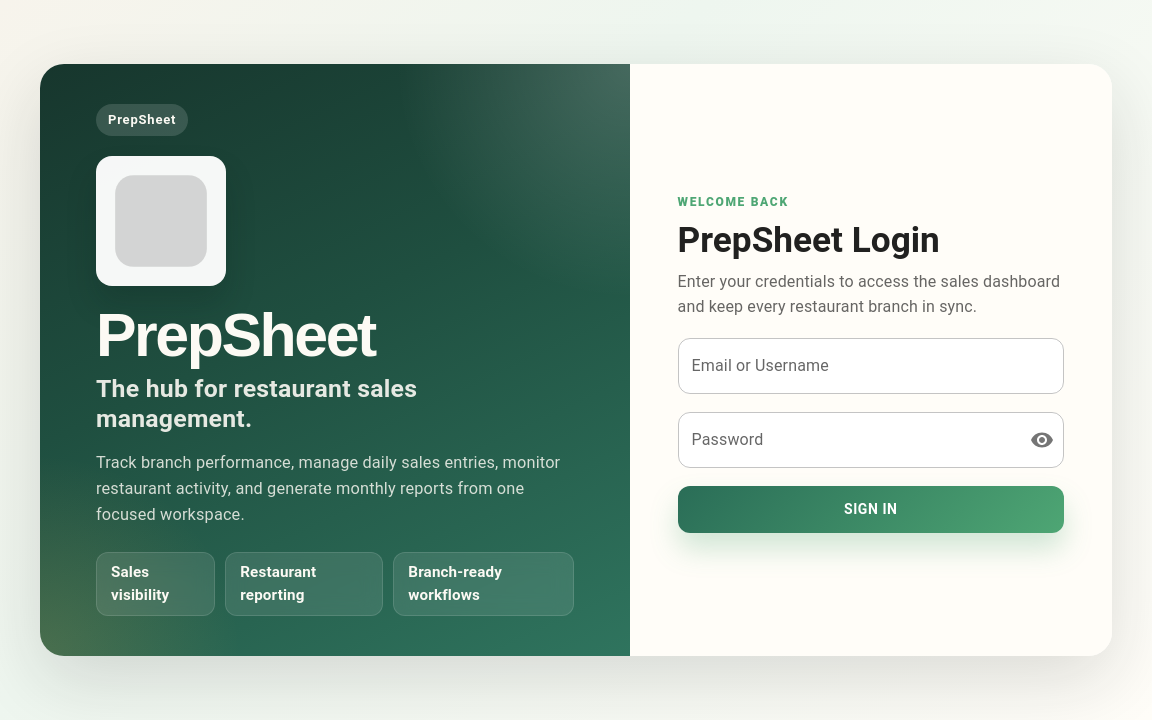
Scenario: Login Page › shows error for invalid credentials
The image size is (1152, 720).
Step 1. Type "wrong@example.com" into the field labelled "Email or Username" → x=871, y=366, box [678,338,1064,394]
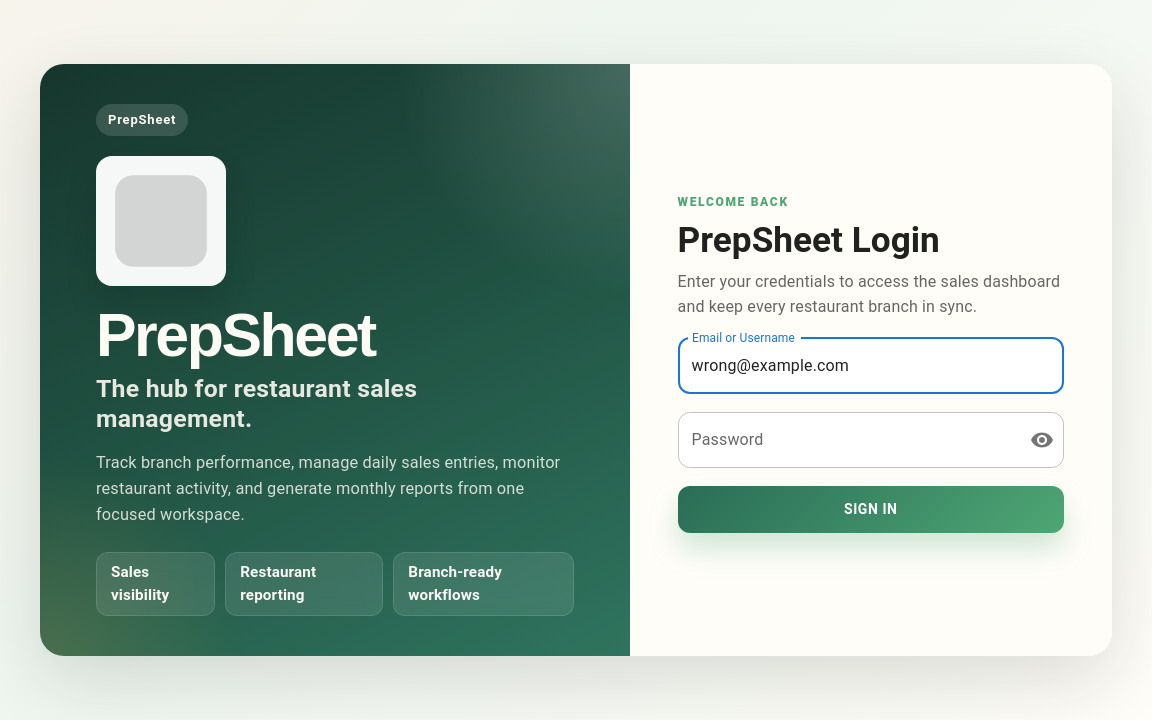
Step 2. Type "wrongpass" into the password field labelled "Password" → x=846, y=440, box [678,412,1014,468]
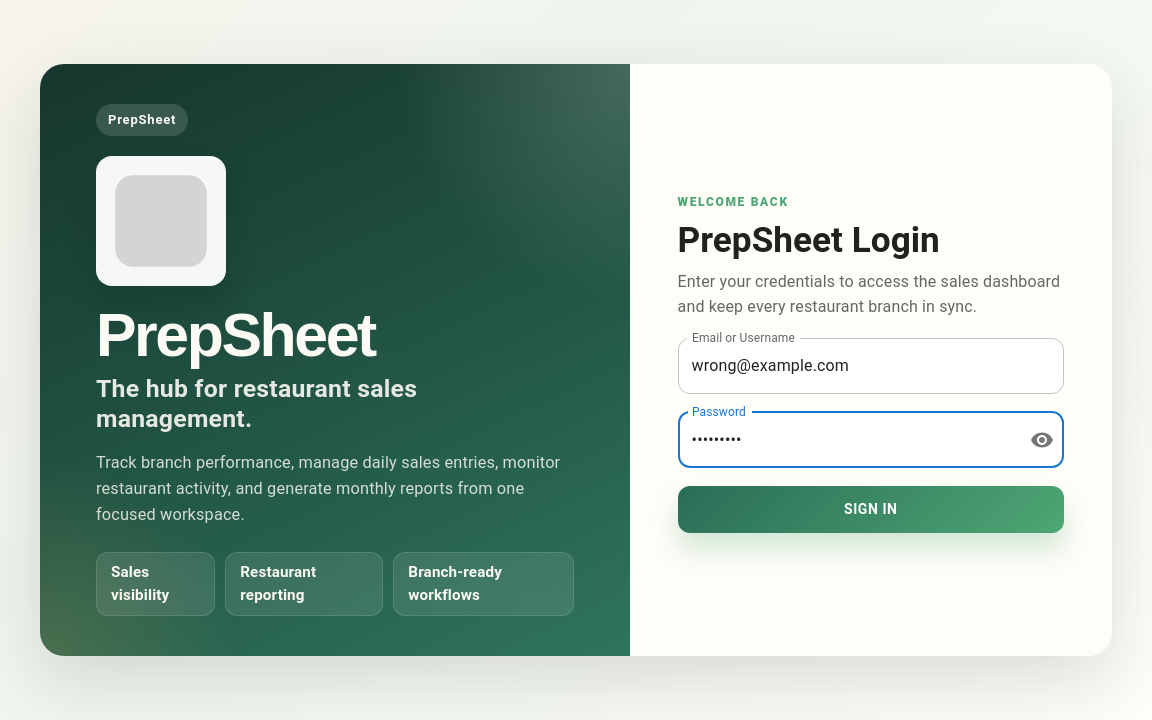
Step 3. Click the submit button → x=871, y=510, box [678,486,1064,533]
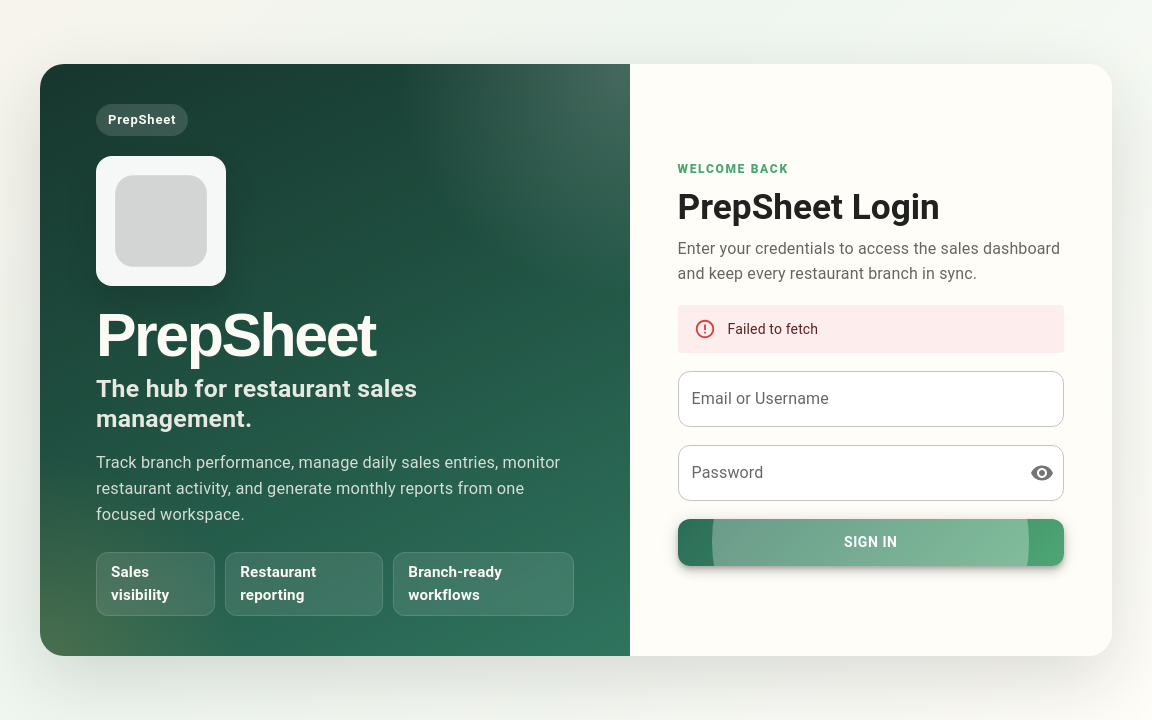
Now the message "Failed to fetch" is shown, box [678,305,1064,353]
